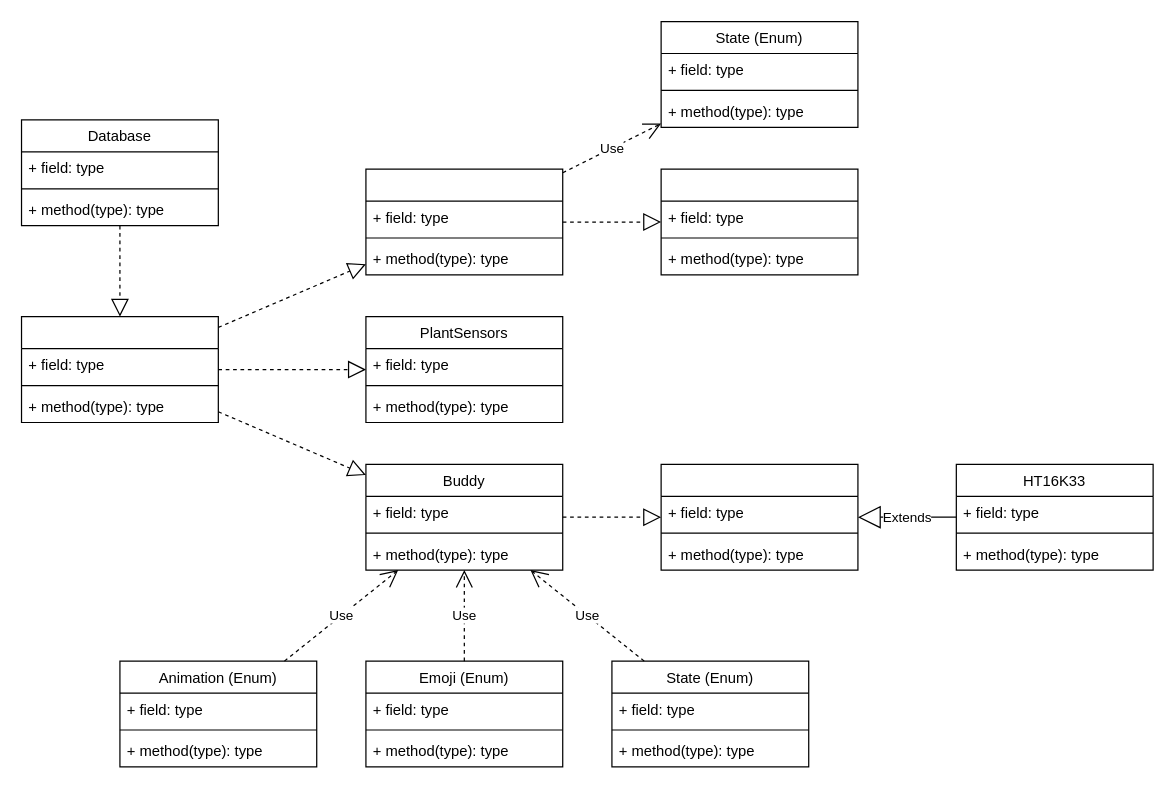
The diagram is 1175 pixels wide and 792 high, and some of its shapes have lost their labels. Here are the shapes that lost their labels. From the top down, the box of each, then its label:
(365, 168, 563, 275): Environment
(660, 168, 858, 275): BH1750
(20, 315, 218, 423): PlantBuddyApp
(660, 463, 858, 570): HT16K33MatrixColour
